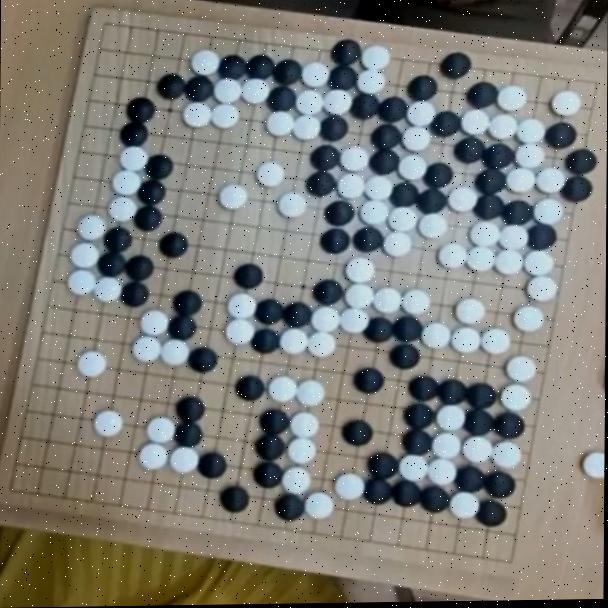corners: (88, 6, 134, 49), (487, 533, 525, 582), (0, 463, 40, 504), (575, 76, 608, 102)
